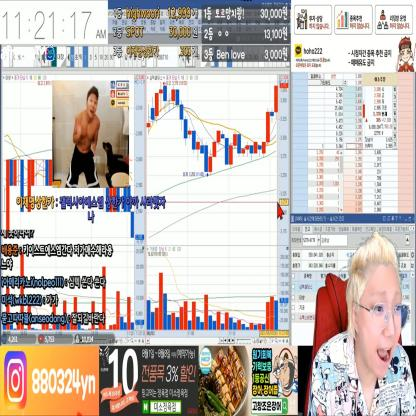donation: (16, 80, 167, 226)
streamer: (306, 230, 416, 416)
